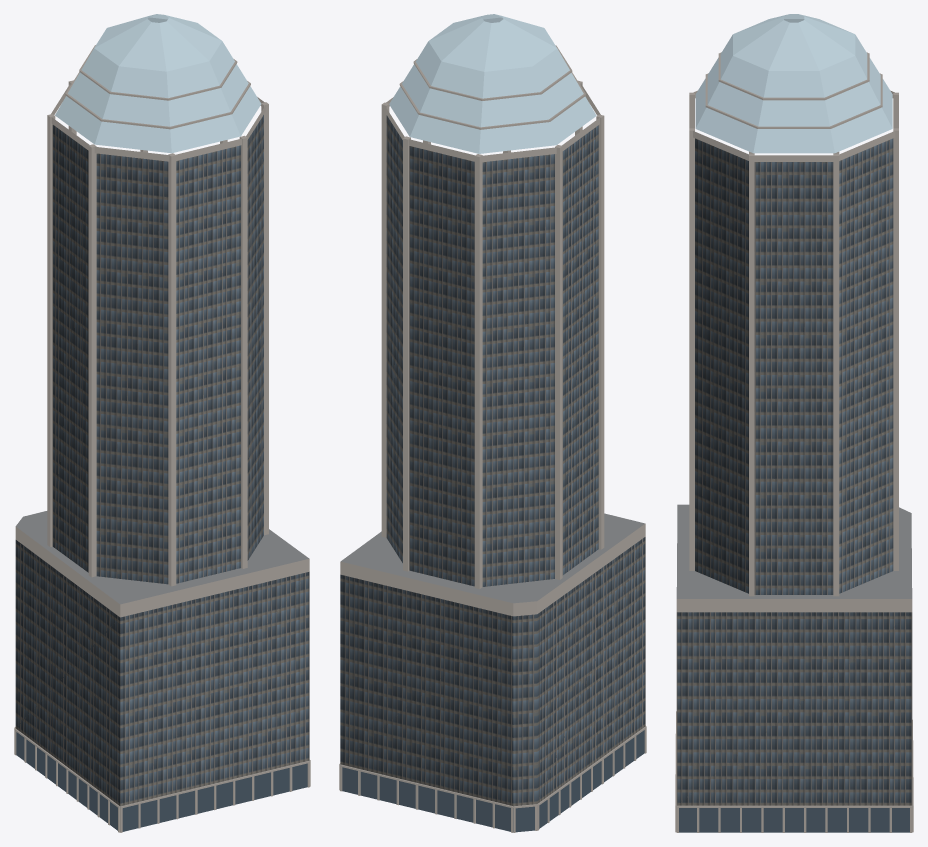
File: madison_383.glb
The picture shows the model from 3 angles, left to right: view 1: azimuth 30°, elevation 25°; view 2: azimuth 150°, elevation 25°; view 3: azimuth 270°, elevation 25°; orthographic projection. The views are drawn at different scales.
Parts seen in each view (by area): view 1: madison_383; view 2: madison_383; view 3: madison_383.
Part boxes in pixels (x1=…): madison_383: x1=14, y1=14, x2=310, y2=832; madison_383: x1=339, y1=14, x2=646, y2=832; madison_383: x1=675, y1=14, x2=913, y2=832.
Size of the model in its own units: 61.5 by 230 by 64.81.
2 materials, 2 textured.
